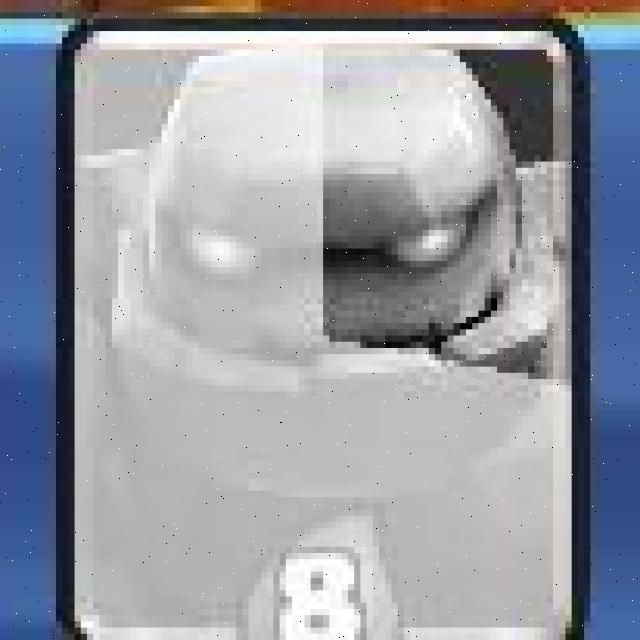Golem: (56, 16, 588, 640)
